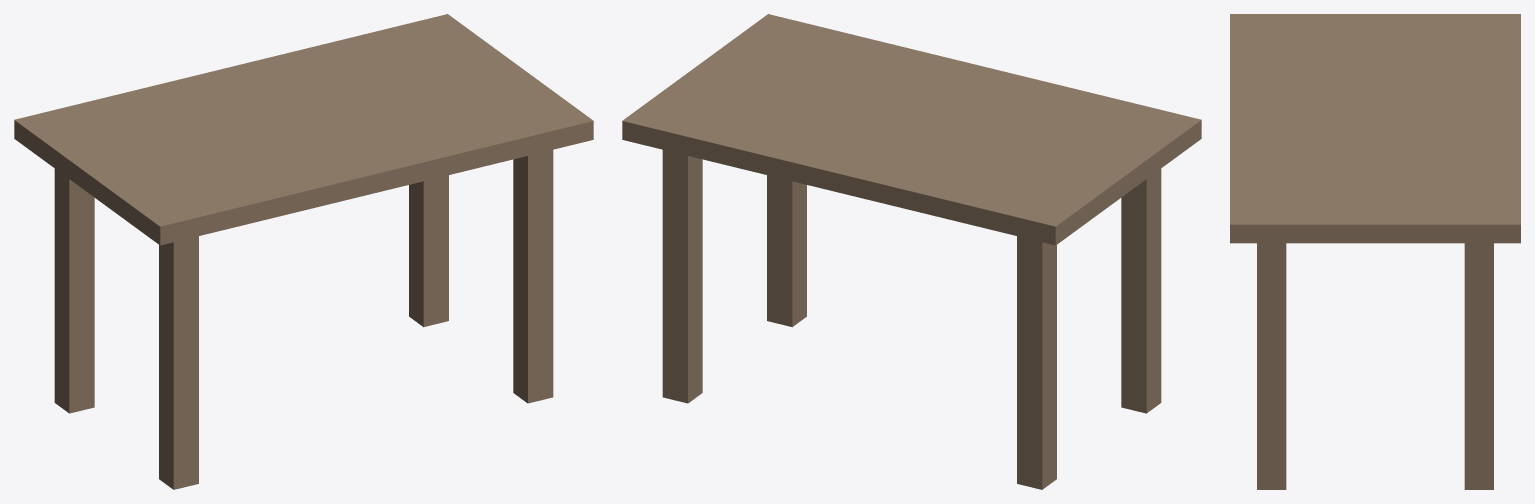
The model's file is AR-DESK.glb.
3 views of the same model, side by side, from view 1: azimuth 30°, elevation 25°; view 2: azimuth 150°, elevation 25°; view 3: azimuth 270°, elevation 25° (orthographic).
Visible parts, largest first — view 1: tabletop, table_leg (×4); view 2: tabletop, table_leg (×4); view 3: tabletop, table_leg (×2).
Part boxes in pixels (x1,y1,x2,y2): tabletop: (14, 14, 593, 245); table_leg (×4): (54, 150, 553, 489); tabletop: (622, 14, 1201, 245); table_leg (×4): (662, 150, 1161, 489); tabletop: (1230, 14, 1520, 243); table_leg (×2): (1257, 243, 1493, 489).
Bounding box in the file's own units: 1.2 × 0.74 × 0.7.
